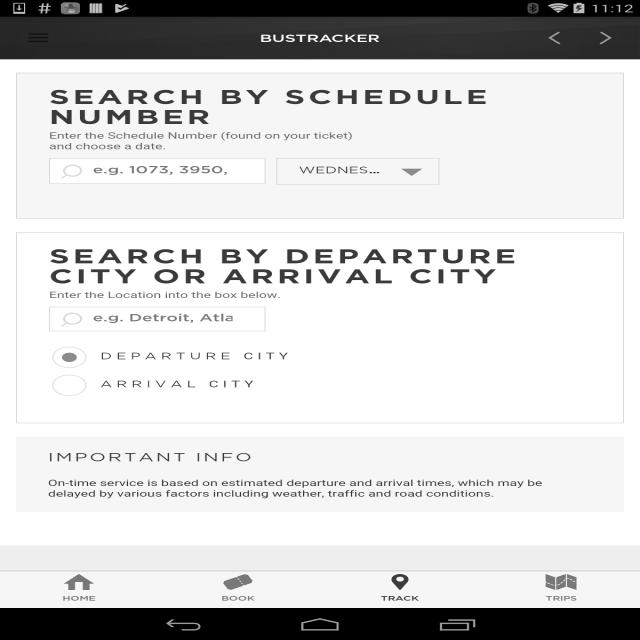Button: (277, 159, 442, 185)
EditText: (93, 159, 232, 183), (93, 307, 232, 331)
ImageButton: (9, 17, 68, 59)
RadioButton: (70, 354, 81, 361), (70, 382, 81, 389)
TextView: (318, 571, 483, 608), (158, 571, 318, 608), (0, 571, 158, 607), (482, 571, 640, 607), (260, 31, 380, 45), (580, 22, 632, 54), (529, 22, 580, 54)
